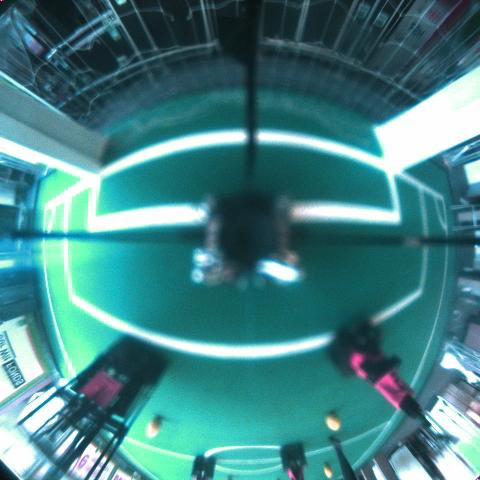ball: (325, 414, 342, 430), (148, 420, 160, 437), (324, 464, 332, 478)
goal: (375, 66, 479, 173), (0, 136, 97, 179)
person: (328, 438, 357, 479)
robot: (16, 333, 168, 479), (325, 317, 433, 430), (280, 443, 307, 479), (191, 455, 217, 479)
